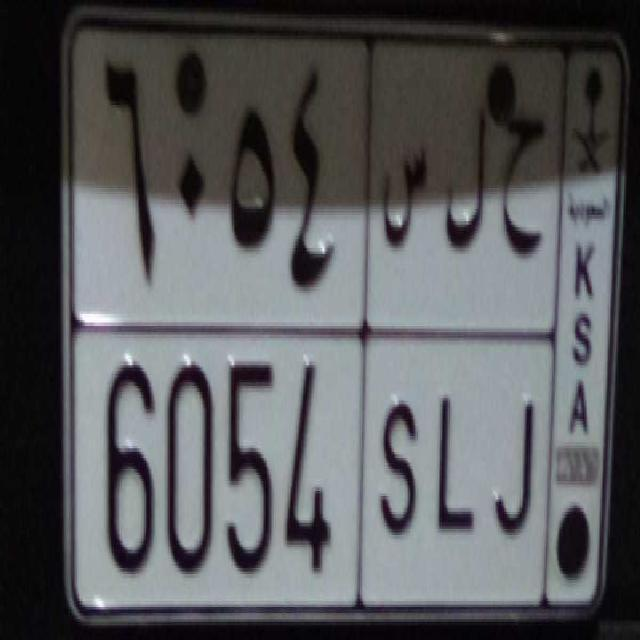license_plate: (87, 313, 544, 640)
